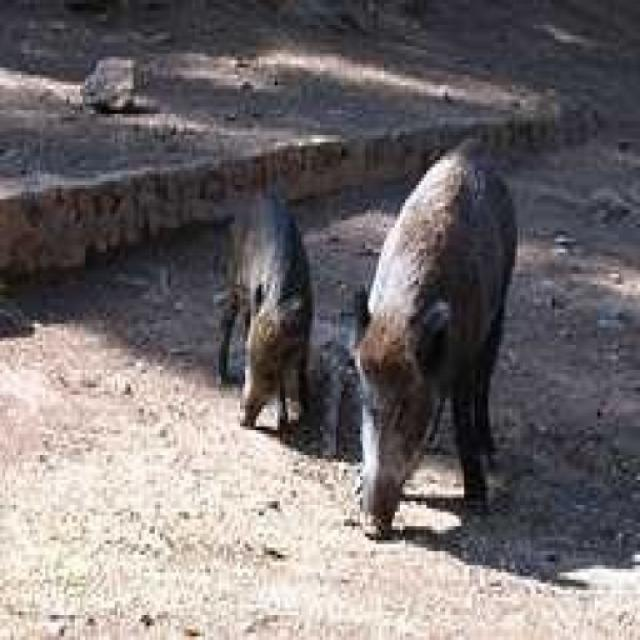pig: (337, 164, 526, 551), (168, 150, 342, 448)
